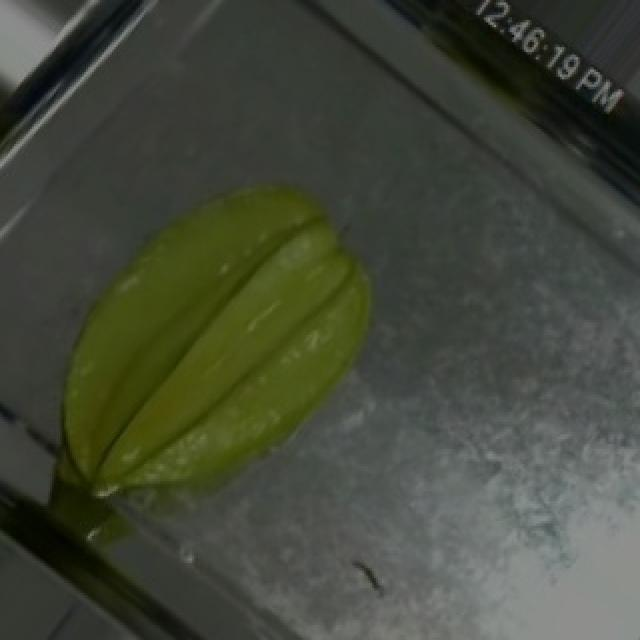fruit: (0, 102, 420, 548)
